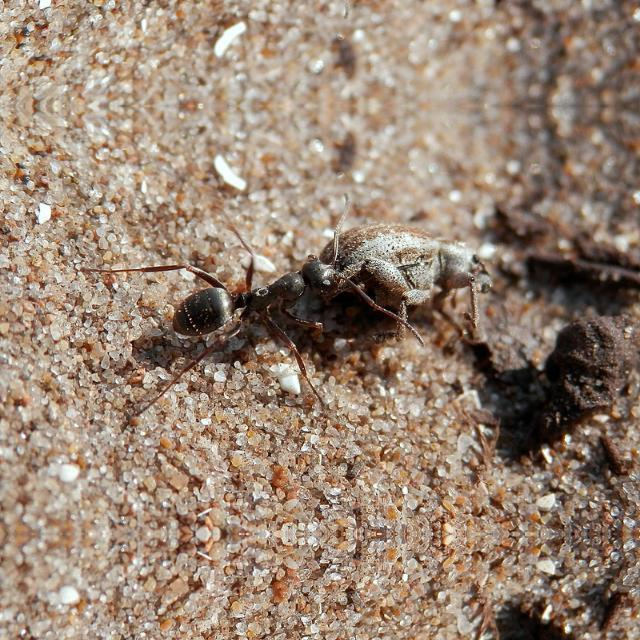Formica: (151, 227, 375, 345)
